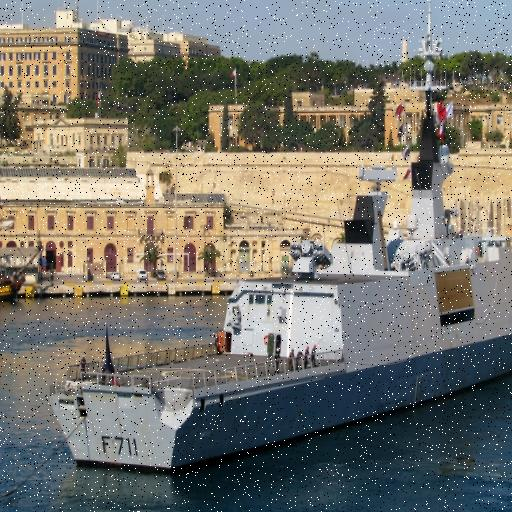Fragata: (46, 114, 512, 482)
